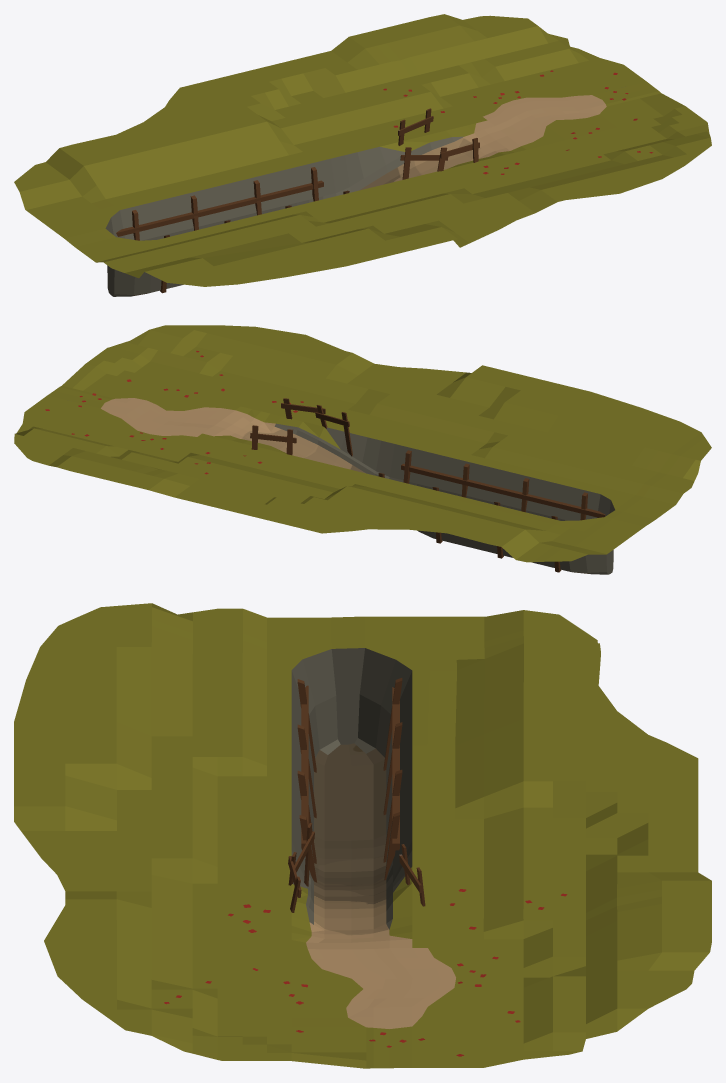
File: ground.gltf
3 views of the same model, one above another, from view 1: azimuth 30°, elevation 25°; view 2: azimuth 150°, elevation 25°; view 3: azimuth 270°, elevation 25° (orthographic). The views are drawn at different scales.
Parts seen in each view (by area): view 1: TrenchAndField; view 2: TrenchAndField; view 3: TrenchAndField.
Boxes of the visible parts, left/top/right/bottom form: TrenchAndField: left=14, top=14, right=711, bottom=296; TrenchAndField: left=14, top=325, right=711, bottom=574; TrenchAndField: left=14, top=603, right=711, bottom=1068.
Size of the model in its own units: 10.76 by 1.5 by 7.03.
37 materials, 37 textured.
